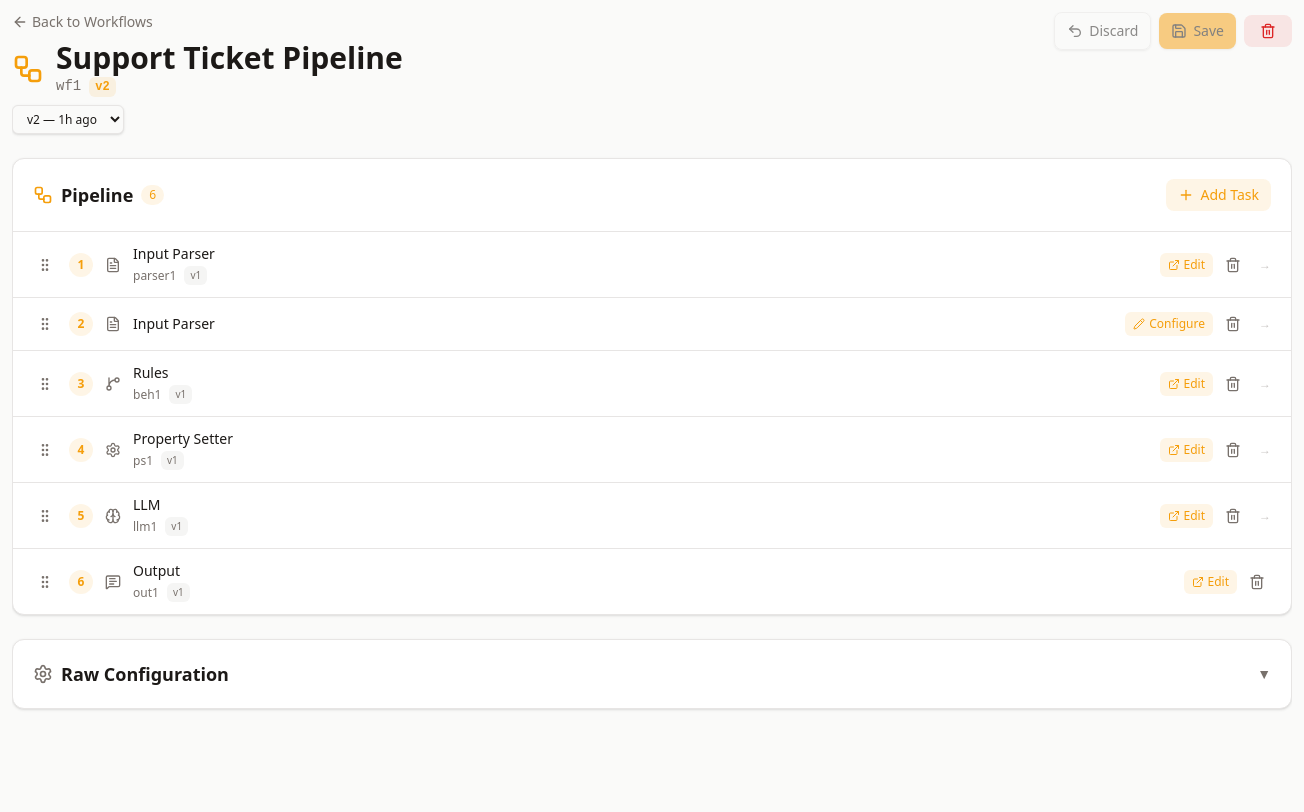
Scenario: WorkflowDetailPage › shows dirty indicator when extensions are removed
Expected: the text with test id "pipeline-step-count" reads "6", [149,186,156,203]
Click the button with test id "^remove-ext-".
click(1233, 264)  # box [1219,250,1247,278]
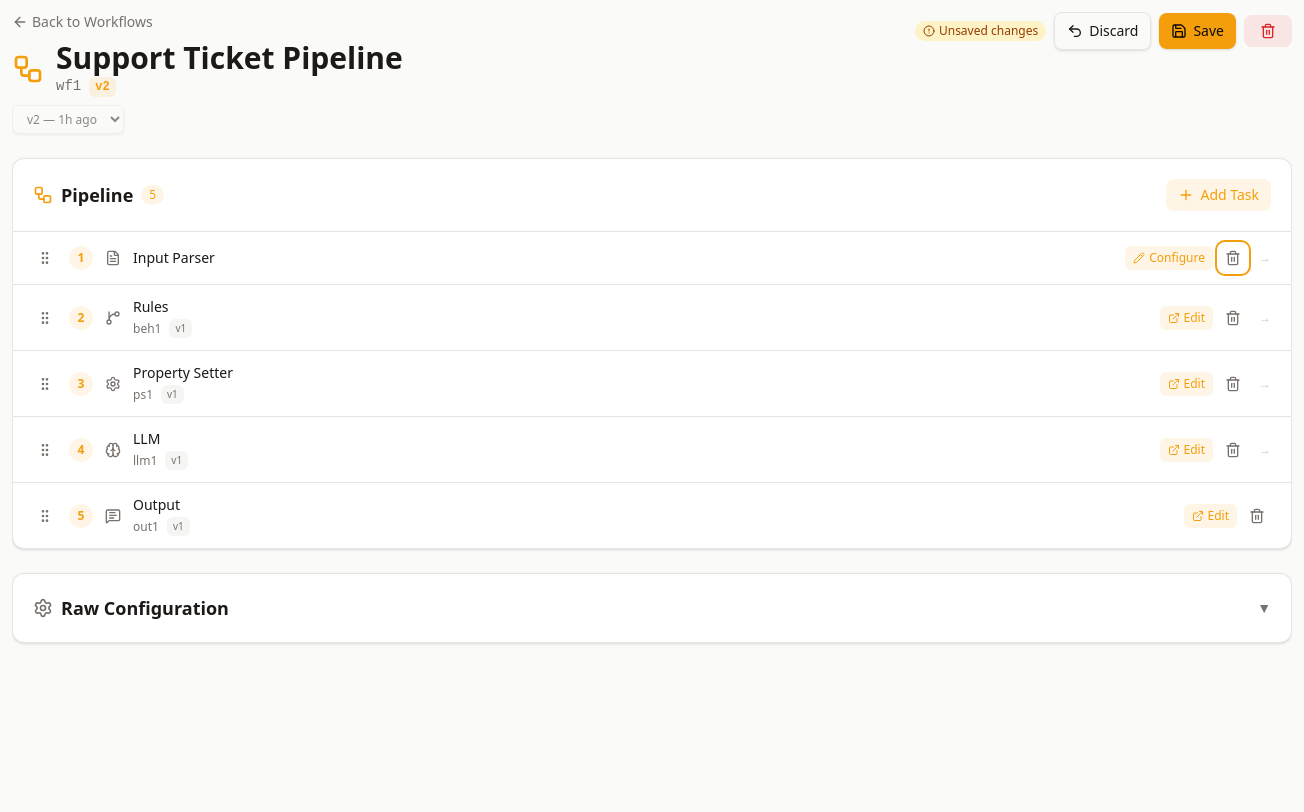
Expected: the element with test id "dirty-indicator" is shown, [915,21,1046,41]
Expected: the button with test id "save-btn" is enabled, [1159,13,1236,49]
Expected: the button with test id "discard-btn" is enabled, [1054,12,1151,50]
